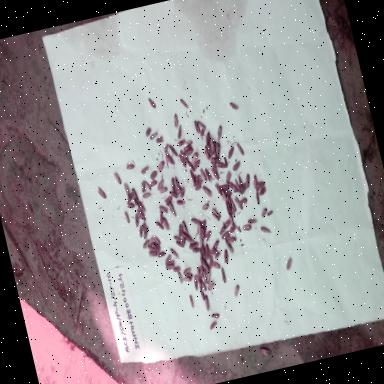pbw: (214, 180, 228, 201), (138, 224, 154, 242), (96, 183, 110, 202), (174, 122, 186, 144), (193, 118, 205, 140), (130, 184, 142, 206), (234, 138, 247, 158), (258, 344, 274, 360), (242, 170, 254, 191), (193, 220, 204, 242), (220, 246, 232, 266), (170, 110, 182, 130), (186, 292, 198, 312), (222, 167, 234, 187), (164, 152, 178, 169), (230, 283, 243, 301), (207, 135, 218, 156), (284, 255, 296, 274), (196, 116, 210, 132), (177, 93, 191, 109), (154, 178, 168, 194), (228, 99, 242, 115), (201, 183, 214, 200), (191, 272, 201, 294), (214, 120, 225, 140), (122, 181, 132, 203), (210, 162, 221, 182), (167, 174, 178, 194), (226, 212, 237, 232), (196, 284, 207, 304), (202, 164, 213, 184), (205, 252, 217, 270), (231, 156, 243, 174), (202, 226, 214, 244), (224, 142, 236, 160), (226, 178, 238, 196), (112, 168, 124, 186), (202, 130, 214, 148), (254, 188, 264, 209), (250, 174, 261, 193), (159, 214, 170, 233), (259, 222, 272, 238), (151, 230, 164, 246), (237, 178, 250, 194), (238, 192, 251, 208), (188, 149, 201, 165), (146, 94, 158, 111), (136, 198, 148, 215), (219, 264, 229, 284), (201, 256, 212, 274), (178, 152, 189, 170), (174, 196, 188, 210), (190, 214, 204, 228), (254, 178, 268, 192), (168, 245, 180, 261), (204, 278, 216, 294), (167, 142, 179, 158), (157, 200, 169, 216), (210, 208, 222, 224), (188, 167, 200, 183), (124, 188, 136, 204), (198, 242, 208, 261), (180, 264, 193, 278), (246, 214, 259, 228), (182, 218, 192, 236), (198, 166, 208, 184), (224, 236, 234, 254), (122, 210, 132, 228), (176, 220, 186, 238), (168, 200, 178, 218), (210, 237, 222, 252), (160, 141, 172, 156), (213, 142, 224, 158), (233, 194, 244, 210), (223, 198, 232, 217), (194, 264, 203, 283), (204, 143, 213, 162), (198, 262, 207, 281), (139, 178, 149, 195), (136, 223, 146, 240), (195, 218, 208, 231), (216, 159, 229, 172), (154, 158, 166, 172), (192, 179, 206, 191), (142, 122, 154, 136), (124, 158, 136, 172), (162, 252, 174, 266), (220, 186, 234, 198), (148, 167, 160, 181), (208, 318, 220, 332), (257, 186, 269, 200), (184, 146, 196, 160), (146, 248, 160, 260), (219, 231, 234, 242), (150, 235, 161, 250), (192, 172, 203, 187), (175, 270, 185, 286), (260, 204, 270, 220), (202, 243, 212, 259), (204, 292, 212, 312), (204, 270, 214, 286), (156, 208, 166, 224), (178, 184, 188, 200), (192, 158, 204, 171), (227, 220, 239, 233), (210, 258, 222, 271), (209, 153, 222, 165), (187, 239, 199, 252), (142, 238, 153, 252), (132, 213, 141, 230), (179, 148, 189, 163), (242, 221, 254, 233), (176, 136, 188, 148), (181, 272, 193, 284), (234, 176, 242, 194), (163, 194, 175, 206), (194, 274, 203, 290), (158, 184, 170, 196), (147, 176, 159, 188), (173, 186, 185, 198), (138, 164, 150, 176), (218, 180, 230, 192), (182, 142, 194, 154), (174, 238, 186, 250), (236, 174, 244, 192), (171, 262, 183, 274), (226, 233, 238, 245), (124, 198, 136, 210), (191, 245, 204, 256), (218, 186, 228, 200), (198, 125, 208, 139), (154, 218, 164, 232), (180, 234, 190, 248), (230, 196, 238, 213), (201, 269, 209, 286), (146, 242, 157, 254), (200, 201, 212, 212), (148, 128, 159, 140), (154, 133, 165, 145), (140, 190, 152, 201), (208, 246, 220, 257), (156, 248, 166, 261), (172, 231, 182, 244), (218, 224, 228, 237), (174, 174, 182, 190), (222, 154, 231, 168), (184, 270, 196, 280), (223, 216, 233, 228), (169, 188, 179, 200), (145, 178, 153, 192), (264, 207, 275, 217), (213, 248, 224, 258), (184, 235, 194, 246), (166, 257, 177, 267), (164, 261, 174, 272), (210, 310, 220, 320), (225, 194, 232, 208), (183, 137, 193, 146)
